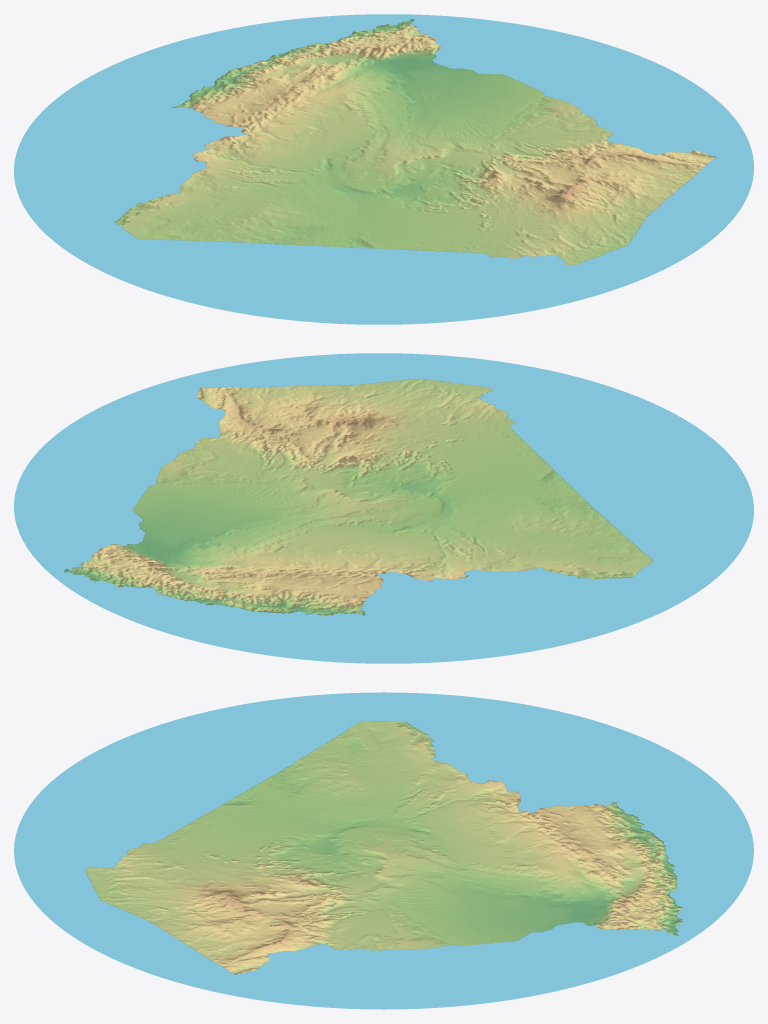
The model's file is DZA-terrain.glb.
The picture shows the model from 3 angles, top to bottom: view 1: azimuth 30°, elevation 25°; view 2: azimuth 150°, elevation 25°; view 3: azimuth 270°, elevation 25°; orthographic projection.
Visible parts, largest first — view 1: Relevo com hidrografia; view 2: Relevo com hidrografia; view 3: Relevo com hidrografia.
Part boxes in pixels (x1=…): Relevo com hidrografia: x1=14, y1=14, x2=753, y2=324; Relevo com hidrografia: x1=14, y1=353, x2=753, y2=663; Relevo com hidrografia: x1=14, y1=692, x2=753, y2=1009.
Size of the model in its own units: 2 by 0.0228 by 1.97.
2 materials, 1 textured.
